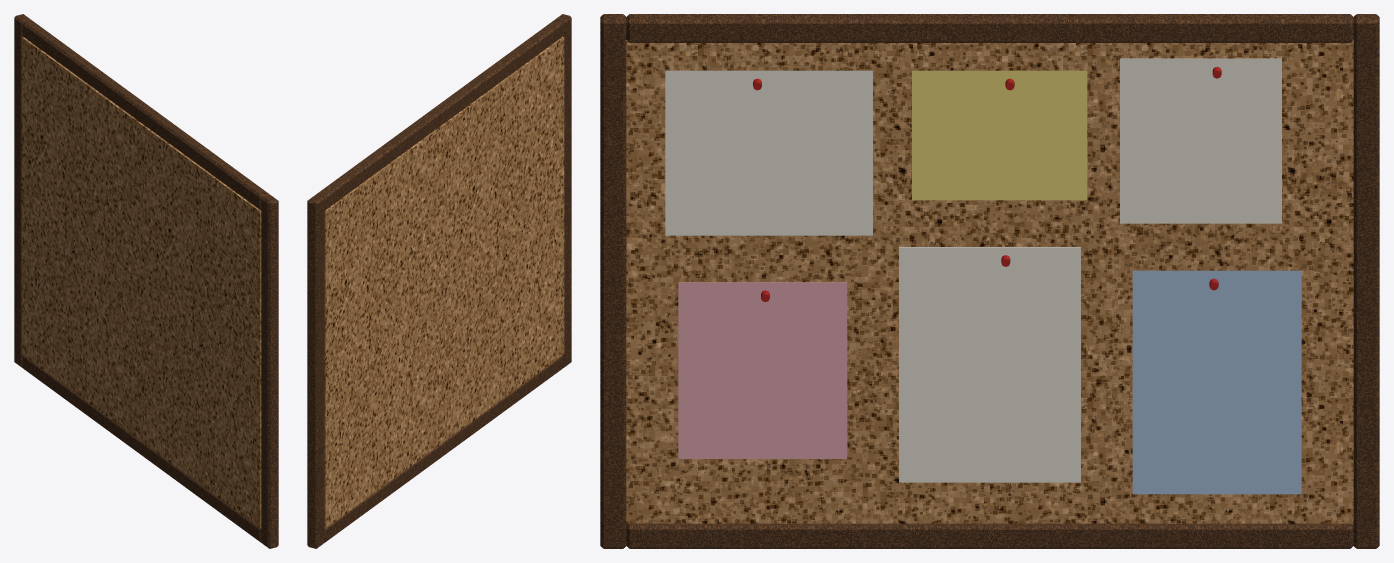
The model's file is CorkBoardNotices.gltf.
3 renders of one model, left to right at view 1: azimuth 30°, elevation 25°; view 2: azimuth 150°, elevation 25°; view 3: azimuth 270°, elevation 25°, orthographic. The views are drawn at different scales.
Parts seen in each view (by area): view 1: CorkBoardNotices; view 2: CorkBoardNotices; view 3: CorkBoardNotices.
Part boxes in pixels (<box>): CorkBoardNotices: <box>14,14,278,548</box>; CorkBoardNotices: <box>307,14,571,548</box>; CorkBoardNotices: <box>600,14,1379,548</box>.
Bounding box in the file's own units: 0.033 × 0.9 × 1.2.
7 materials, 2 textured.
